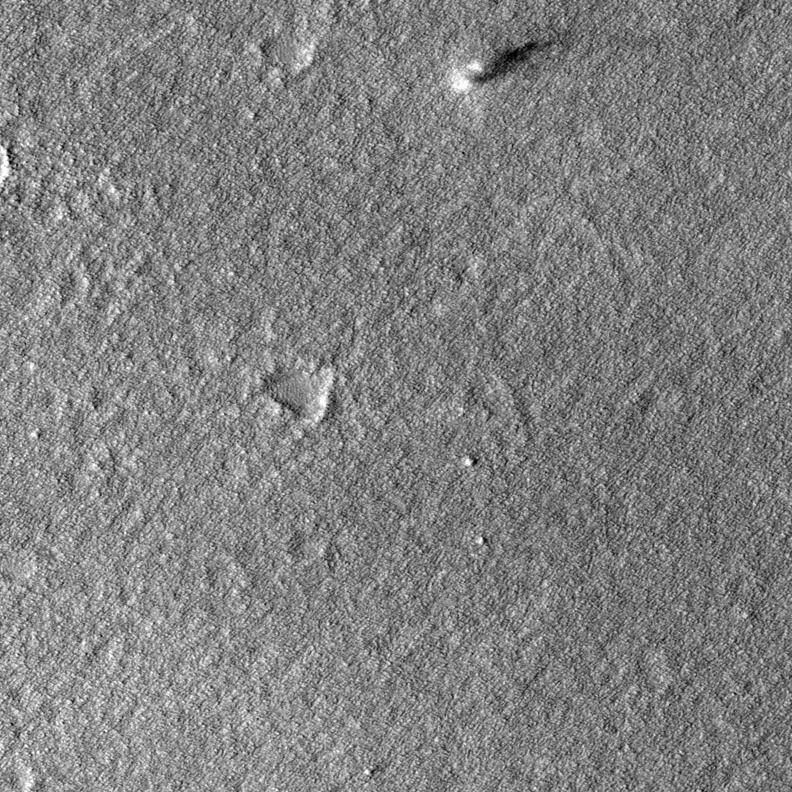dust_devil: (448, 38, 554, 95)
